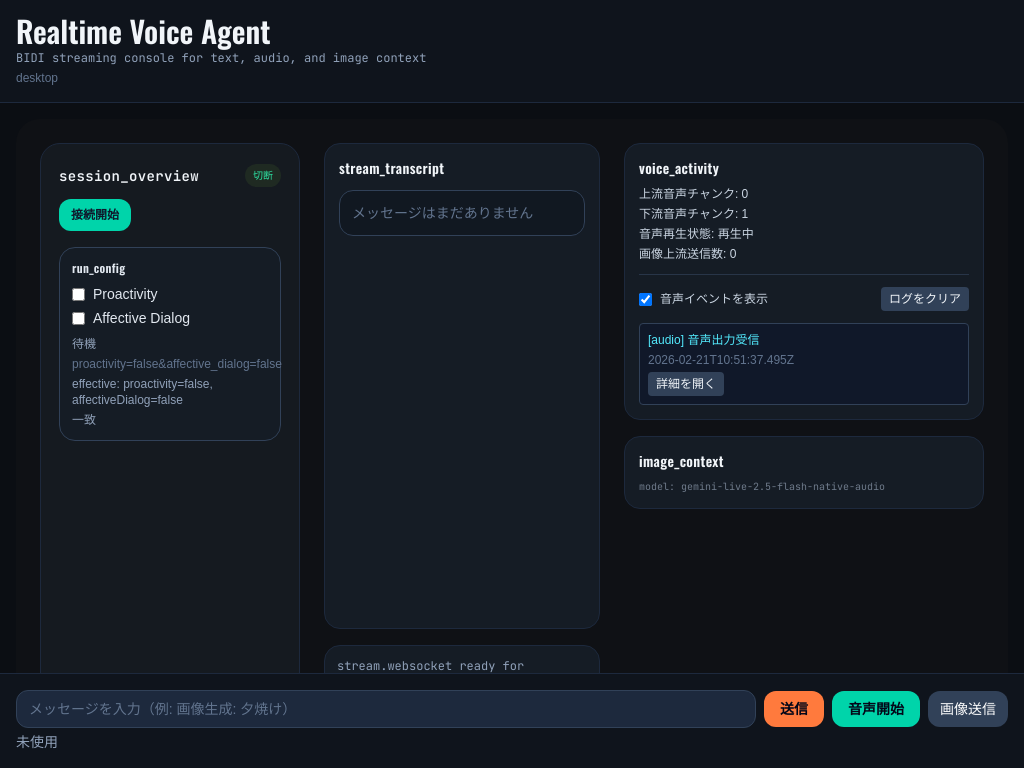
Test: App shell › toggles audio event visibility in event console
Check: the text "[audio] 音声出力受信" is shown, box [648,333,759,347]
Click the checkbox labelled "音声イベントを表示" at (646, 299), box [639,292,652,306]
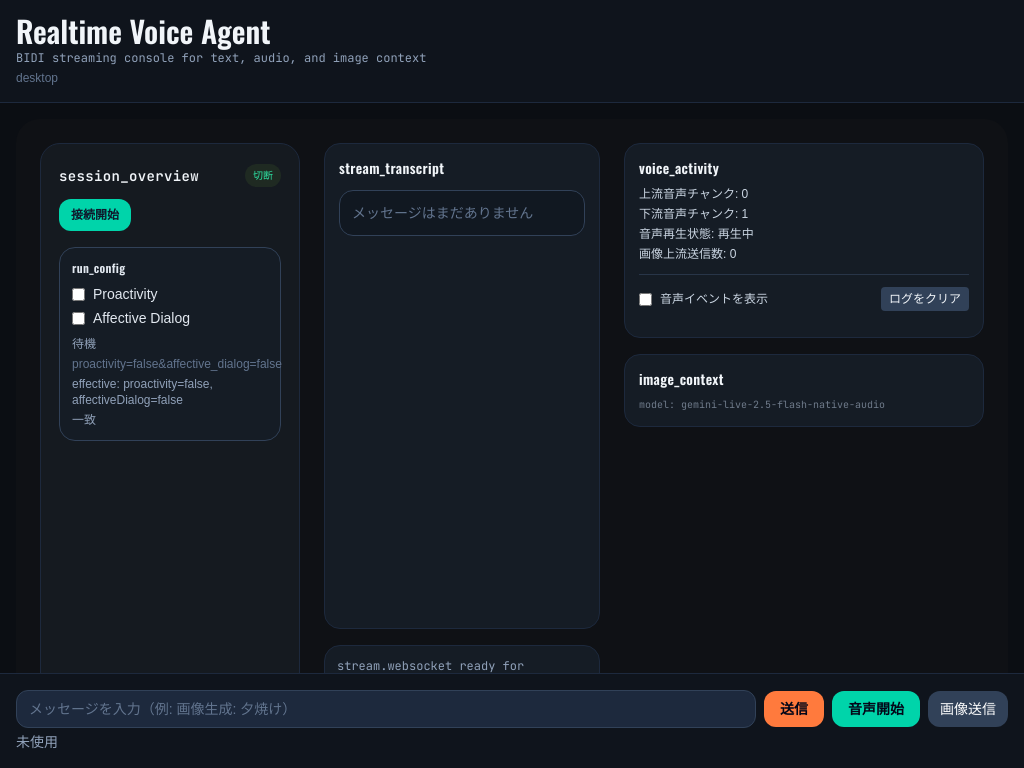
Check: the text with test id "event-log-item-audio" is gone
Click the checkbox labelled "音声イベントを表示" at (646, 299), box [639,292,652,306]
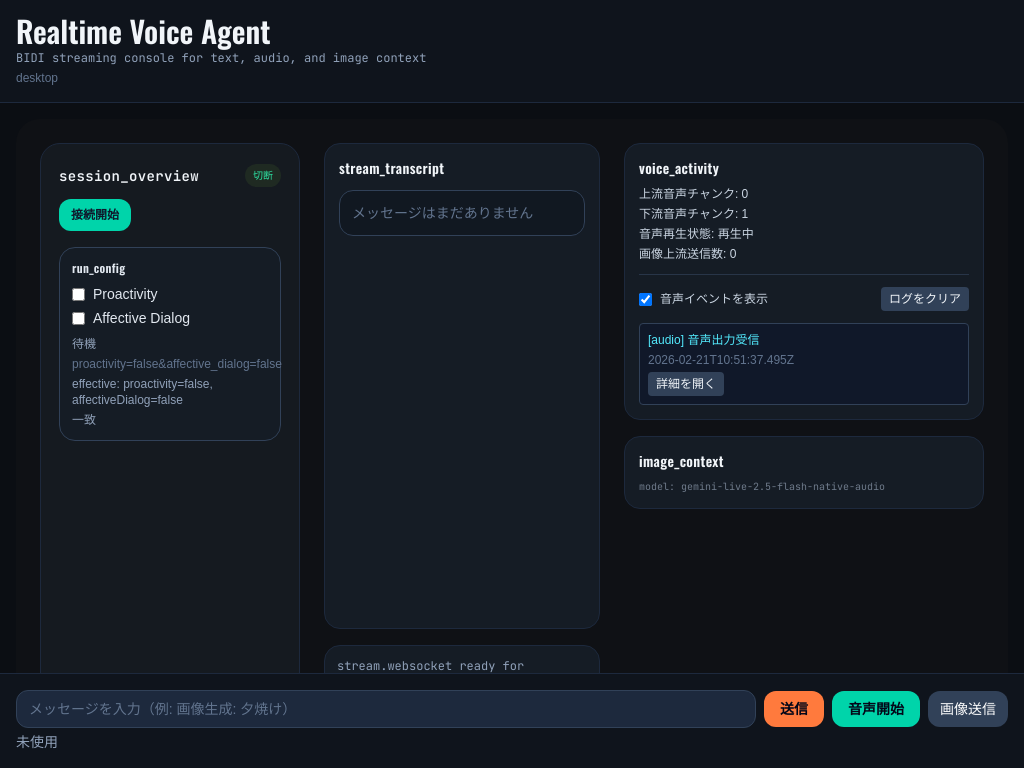
Check: the text "[audio] 音声出力受信" is shown, box [648,333,759,347]
